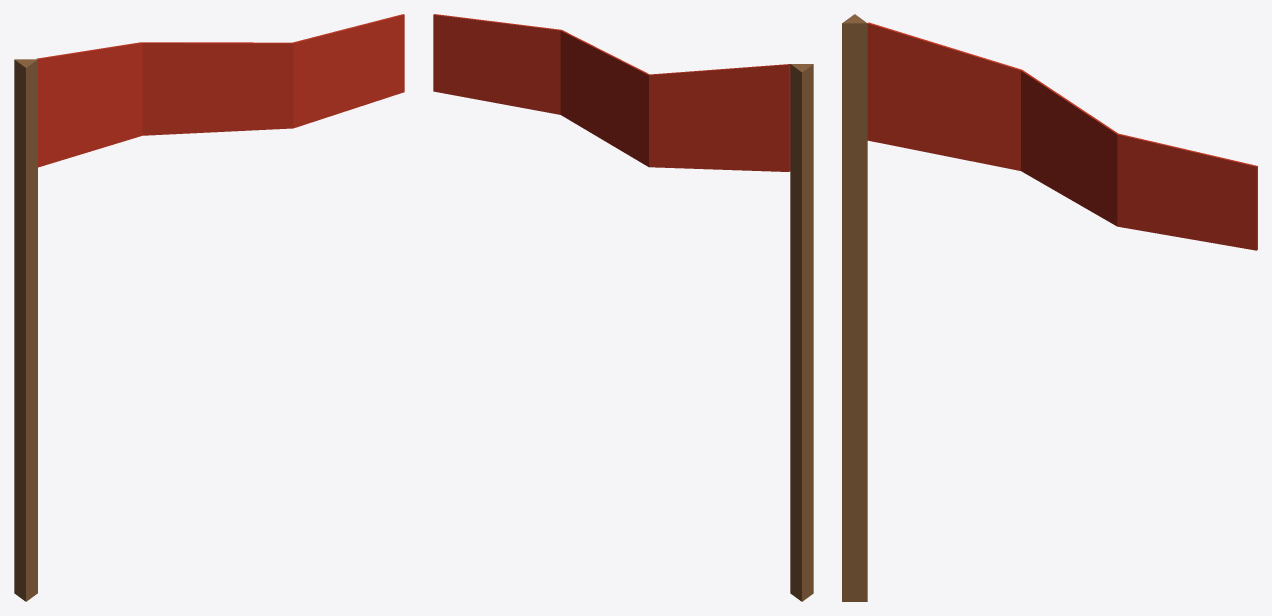
File: Player_flag_red_1_mat.fbx
The picture shows the model from 3 angles, left to right: view 1: azimuth 30°, elevation 25°; view 2: azimuth 150°, elevation 25°; view 3: azimuth 330°, elevation 25°; orthographic projection. The views are drawn at different scales.
Visible parts, largest first — view 1: Player_flag_red_1_mat; view 2: Player_flag_red_1_mat; view 3: Player_flag_red_1_mat.
Part boxes in pixels (box(x1,y1,x2,y2)): Player_flag_red_1_mat: box(14, 14, 404, 601); Player_flag_red_1_mat: box(433, 14, 813, 601); Player_flag_red_1_mat: box(842, 14, 1257, 601).
Bounding box in the file's own units: 0.61 × 0.8178 × 0.0894.
